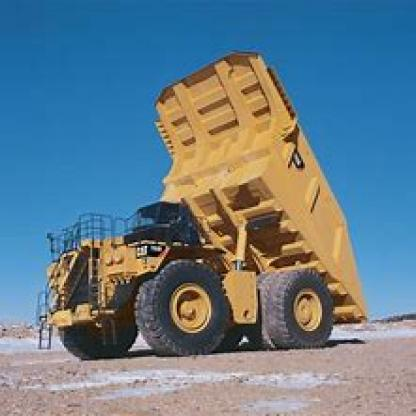dump_truck: (36, 47, 374, 352)
